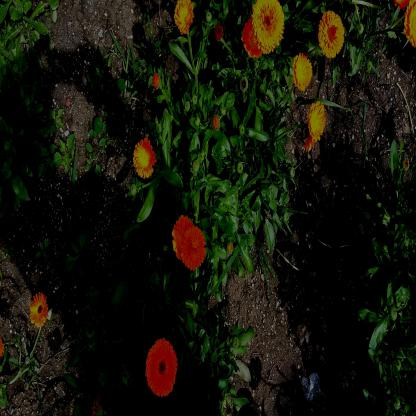marigold: (145, 337, 178, 399), (252, 0, 284, 54), (317, 9, 346, 60), (181, 225, 206, 270), (171, 213, 194, 261), (132, 136, 157, 178), (241, 16, 265, 58), (293, 52, 313, 92), (173, 0, 194, 36), (308, 99, 326, 140), (29, 292, 49, 327), (303, 128, 316, 152)
